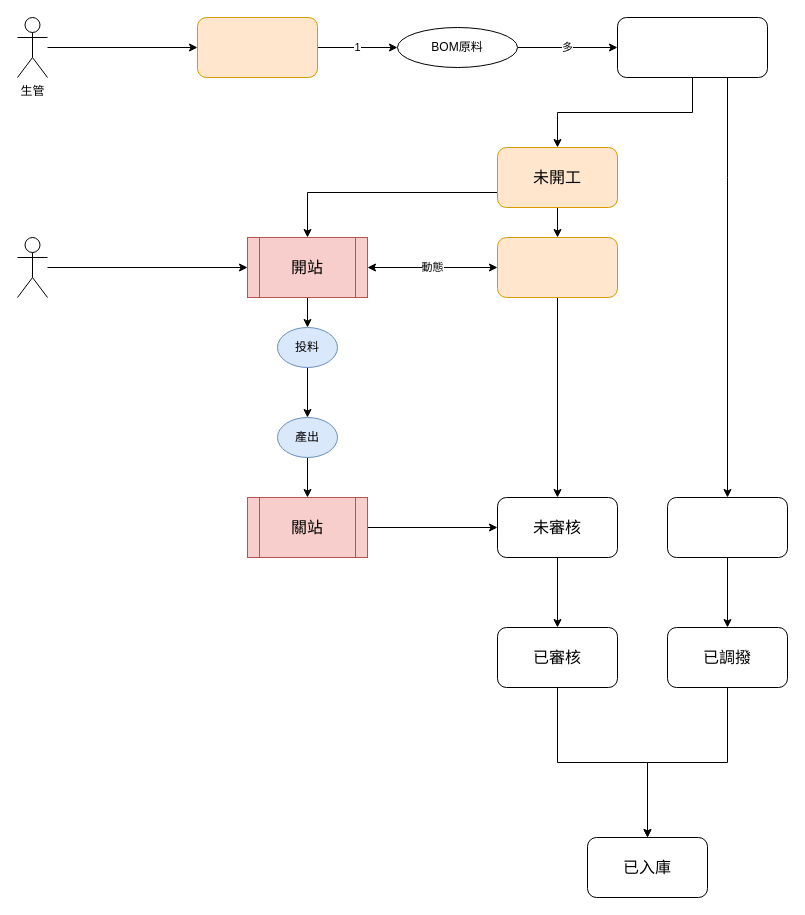
Some shapes in this 805 by 915 pixel diagram are drawn without their labels. Here are the shapes that lost their labels. From the top down, the centre of each, then its label:
At [257,47]: "排程工單".
At [692,47]: "關聯工單".
At [32,267]: "產線".
At [557,267]: "開工".
At [727,527]: "未調撥".
